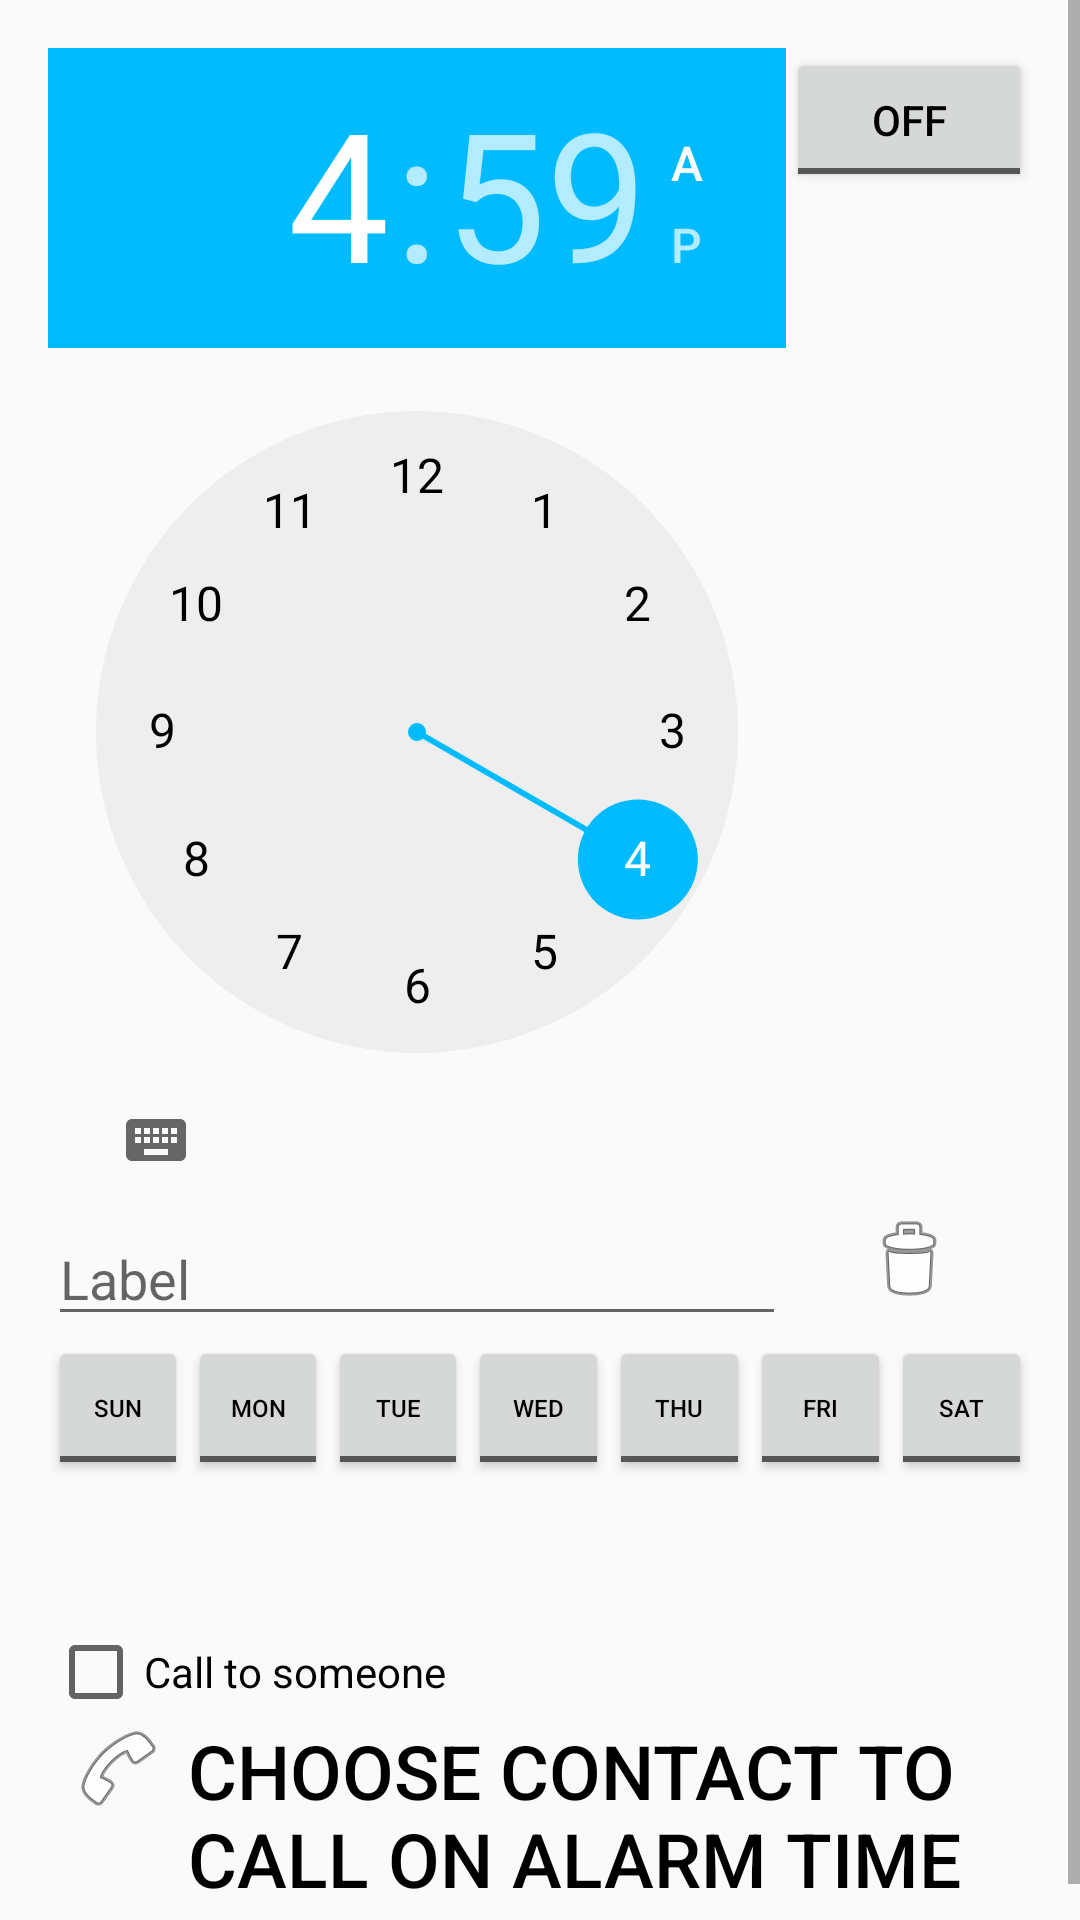

Screen size 1080w x 1920h. Icon name, then its box in pixels as detection(x1, y1, x2, y2):
Delete alarm: detection(882, 1221, 937, 1296)
